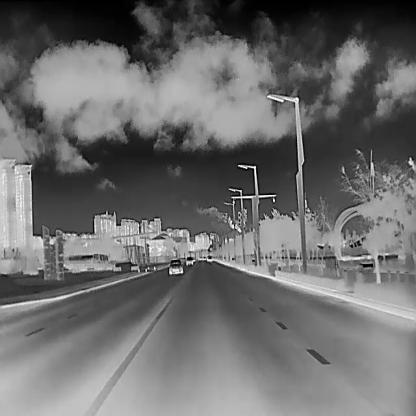car: (168, 258, 182, 274), (185, 255, 193, 266), (205, 254, 212, 261), (202, 255, 206, 259)
truck: (67, 253, 104, 272)
